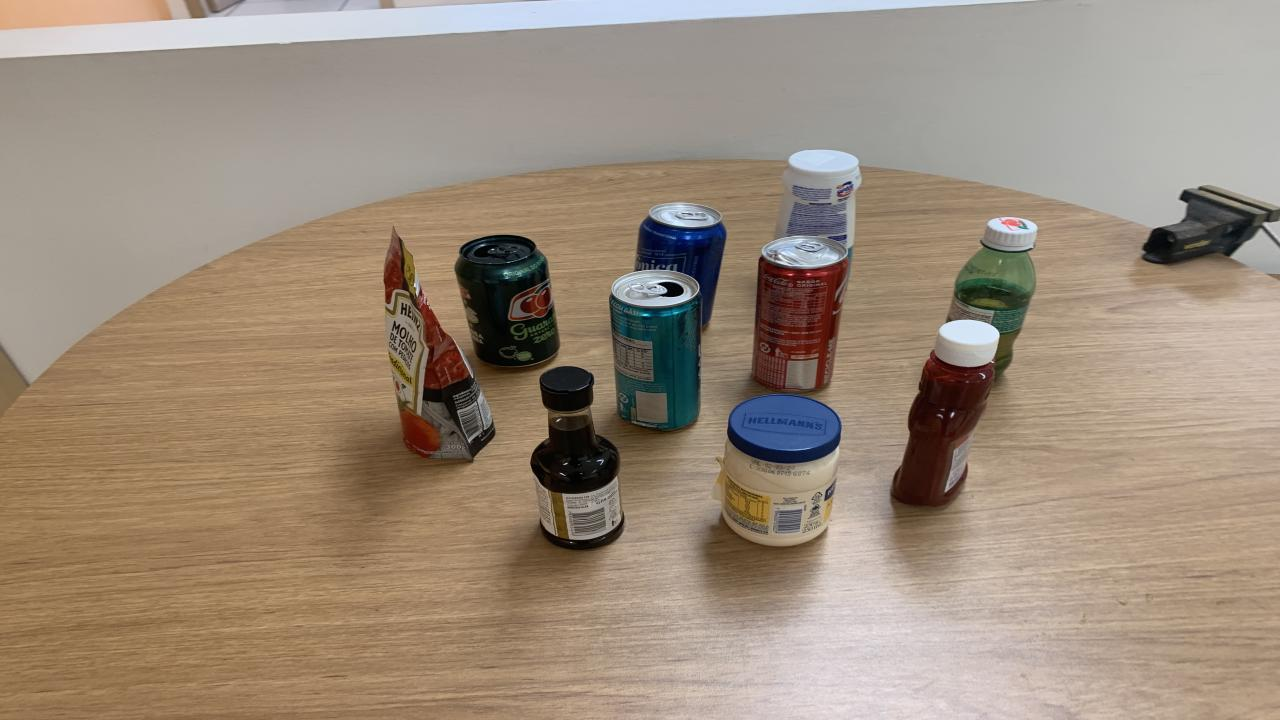Cleaner-Cleanup_Items: (775, 150, 862, 249)
Coke-Drinks: (752, 236, 848, 390)
English_Sauce-Pantry_Items: (530, 368, 625, 549)
Guarana-Drinks: (948, 218, 1038, 377)
Guarana_Can-Drinks: (455, 234, 560, 368)
Ketchup-Pantry_Items: (892, 319, 1000, 506)
Mayonnaise-Pantry_Items: (718, 394, 842, 546)
Tea-Drinks: (610, 270, 702, 429)
Tomato_Sauce-Pantry_Items: (382, 229, 495, 459)
Tonic-Drinks: (635, 202, 728, 324)
